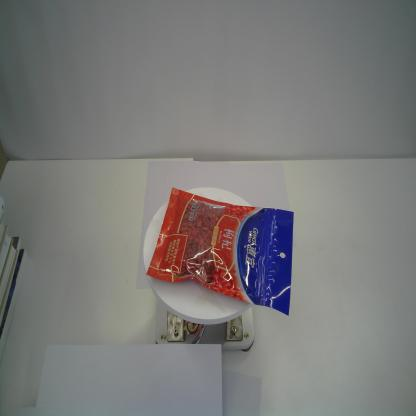Dried Fruit: (144, 185, 295, 318)
